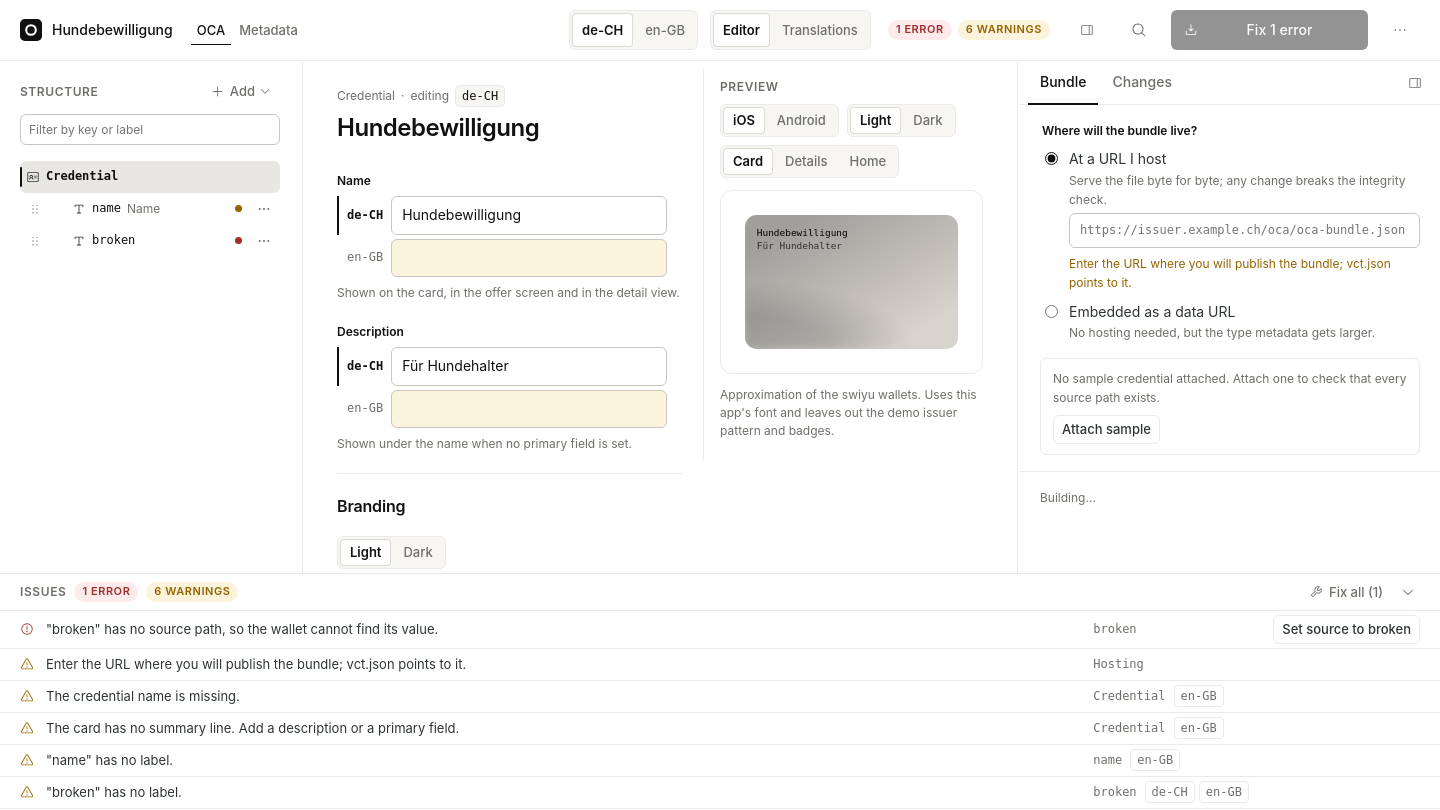
Test: Workspace › edits the credential name in the current language
This screenshot has width=1440, height=810.
Click the 1st button "en-GB" at (665, 30), box [635,13,695,47]
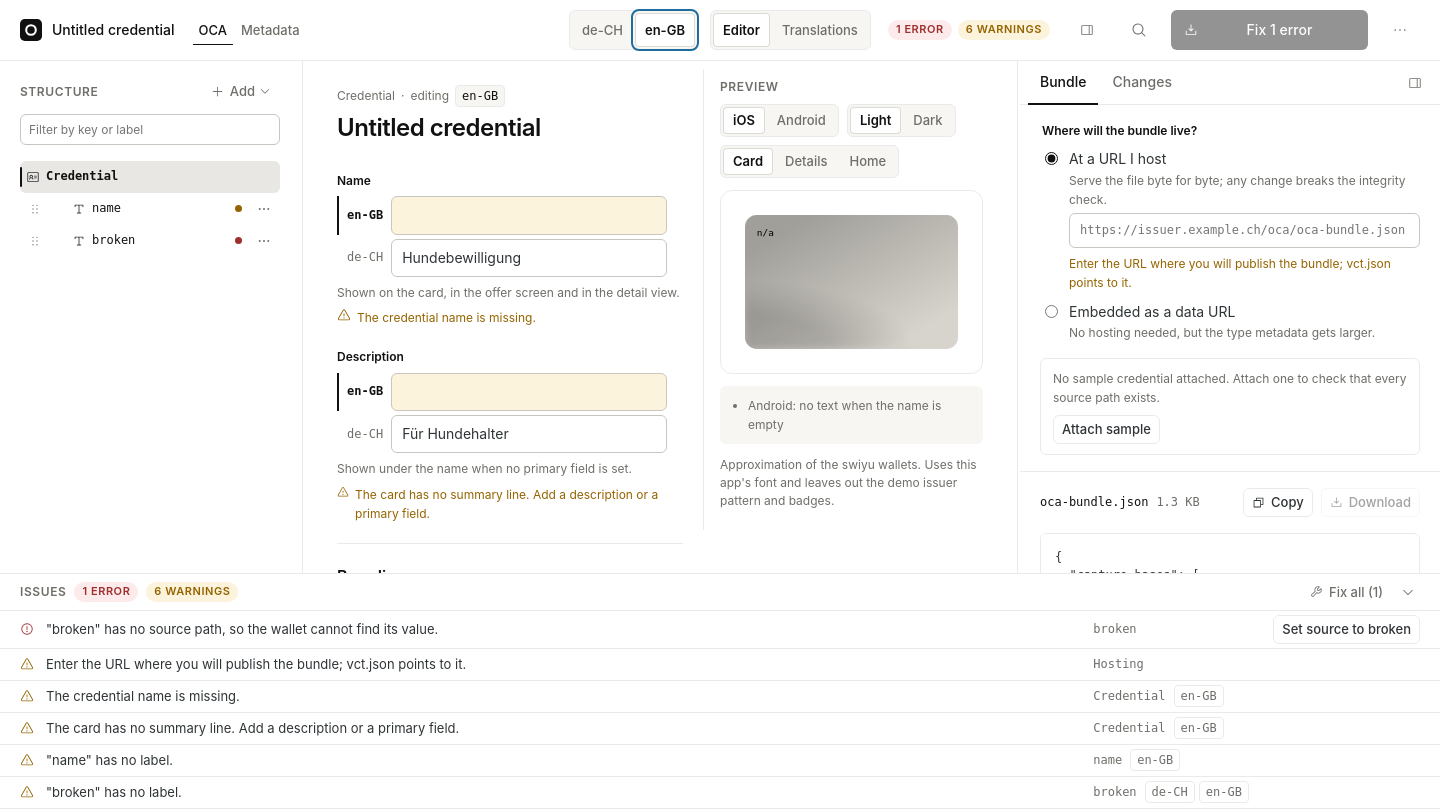
Type "Dog permit" into the field labelled "Name" at (529, 215), box [391,196,667,235]
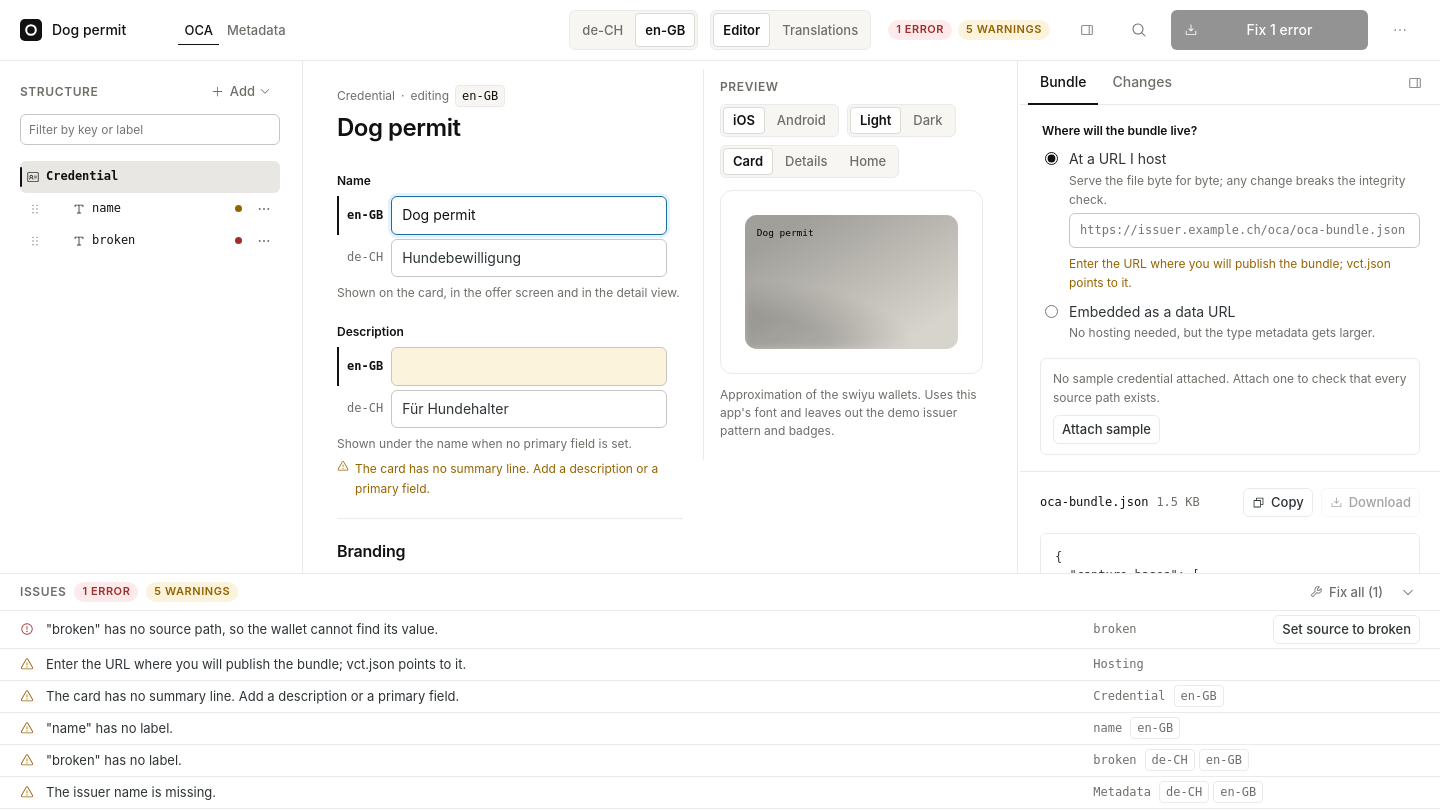
Expected: the 1st text "Dog permit" is shown, [52,21,126,38]
